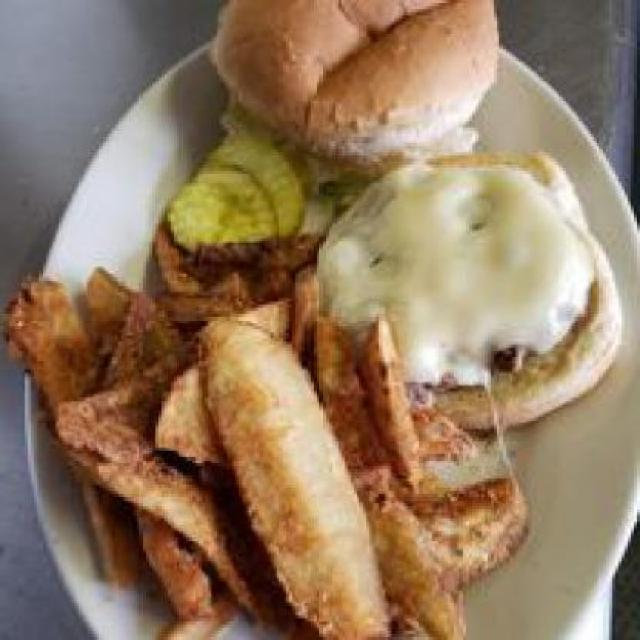french fries: (15, 260, 528, 638)
